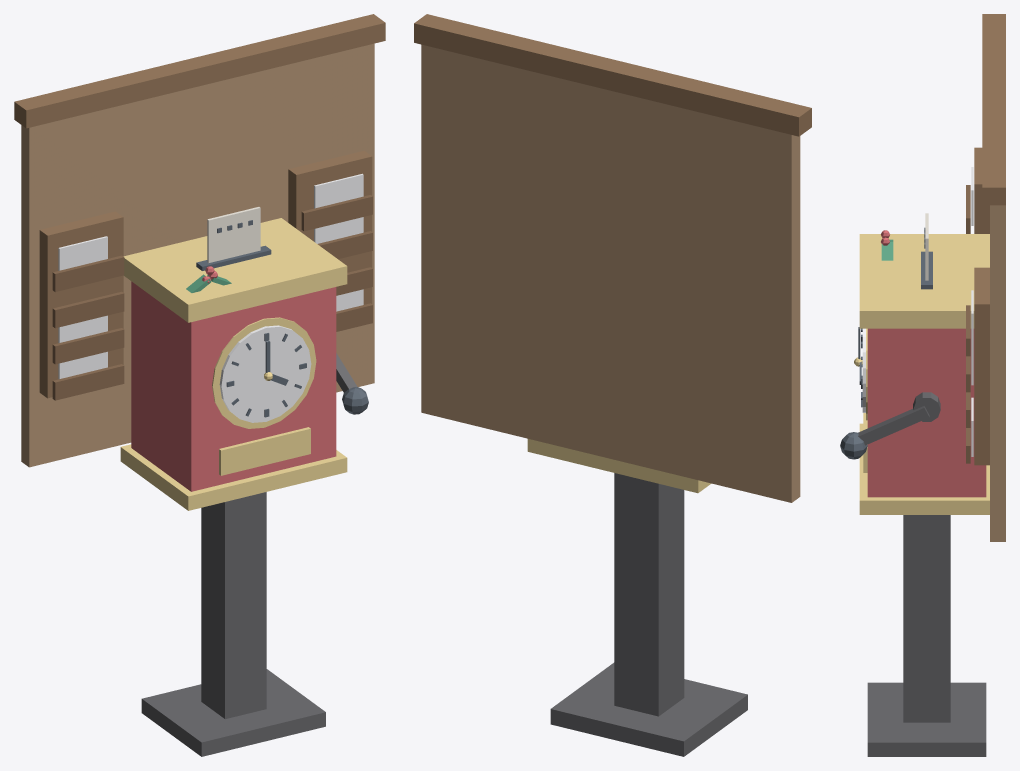
File: station_clock.glb
3 views of the same model, side by side, from view 1: azimuth 30°, elevation 25°; view 2: azimuth 150°, elevation 25°; view 3: azimuth 270°, elevation 25° (orthographic). The views are drawn at different scales.
Visible parts, largest first — view 1: Backboard, Clock body, Foot, Trim bottom, Backboard cap, Card.-1.0, Pocket.-1.0, Punch card, Mark.0; view 2: Backboard, Foot, Backboard cap, Trim bottom; view 3: Foot, Clock body, Trim bottom, Backboard cap, Backboard, Mark.0, Pocket.-1.0, Card.-1.0.
Part boxes in pixels (<box>): Backboard: <box>21,43,374,467</box>; Clock body: <box>131,266,336,491</box>; Foot: <box>141,353,357,756</box>; Trim bottom: <box>120,218,347,510</box>; Backboard cap: <box>14,14,385,398</box>; Card.-1.0: <box>58,173,363,422</box>; Pocket.-1.0: <box>52,195,372,400</box>; Punch card: <box>207,207,260,262</box>; Mark.0: <box>196,220,368,417</box>; Backboard: <box>421,44,800,502</box>; Foot: <box>550,473,747,756</box>; Backboard cap: <box>414,14,811,136</box>; Trim bottom: <box>527,439,711,493</box>; Foot: <box>858,392,986,756</box>; Clock body: <box>867,230,986,497</box>; Trim bottom: <box>854,234,989,514</box>; Backboard cap: <box>974,14,1005,465</box>; Backboard: <box>990,205,1005,541</box>; Mark.0: <box>840,227,932,459</box>; Pocket.-1.0: <box>966,185,970,463</box>; Card.-1.0: <box>862,167,973,456</box>.
Bounding box in the file's own units: 1.04 × 1.75 × 0.42.
